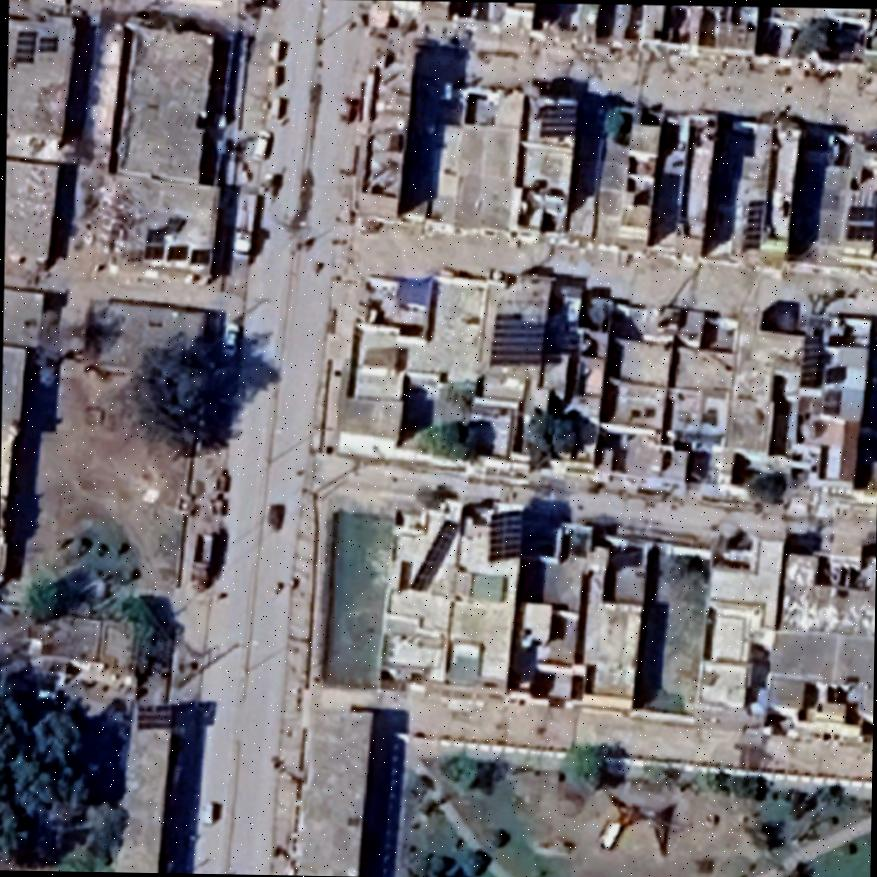Solarpanel: (406, 516, 462, 596), (486, 309, 550, 370), (485, 503, 528, 566), (795, 322, 830, 391), (536, 97, 582, 141), (146, 215, 190, 261), (740, 194, 770, 252), (841, 199, 877, 244), (10, 24, 40, 68), (40, 29, 60, 55)
